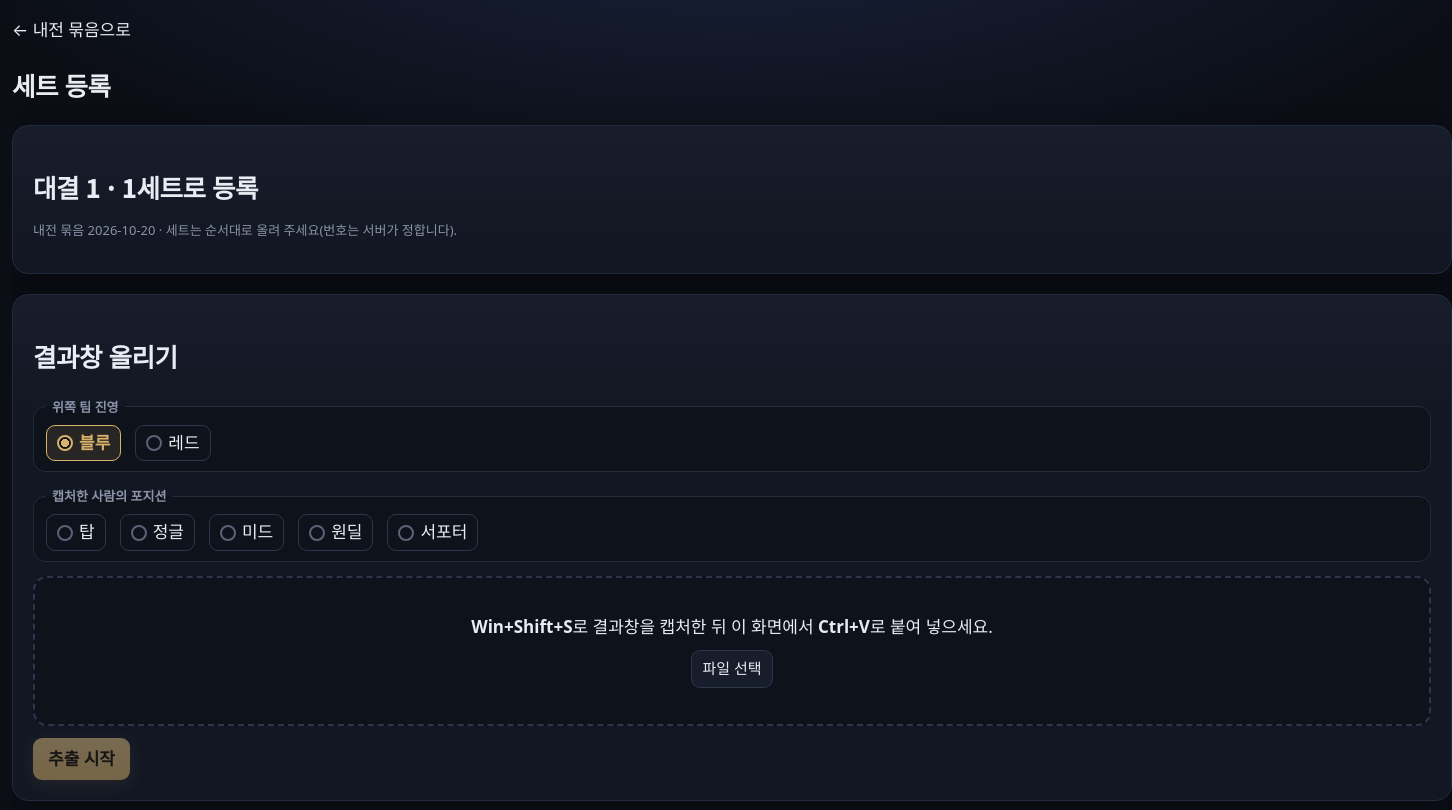
Test: SetRegisterPage › 오래 걸리면 폴링을 멈추고 "상태 다시 확인"과 "다시 추출"을 구분해서 보여 준다
The width and height of the screenshot is (1452, 810).
Expected: the heading "대결 1 · 1세트로 등록" is shown, [33,168,258,205]
Click the radio button labelled "원딜": (317, 533) [309,525,325,541]
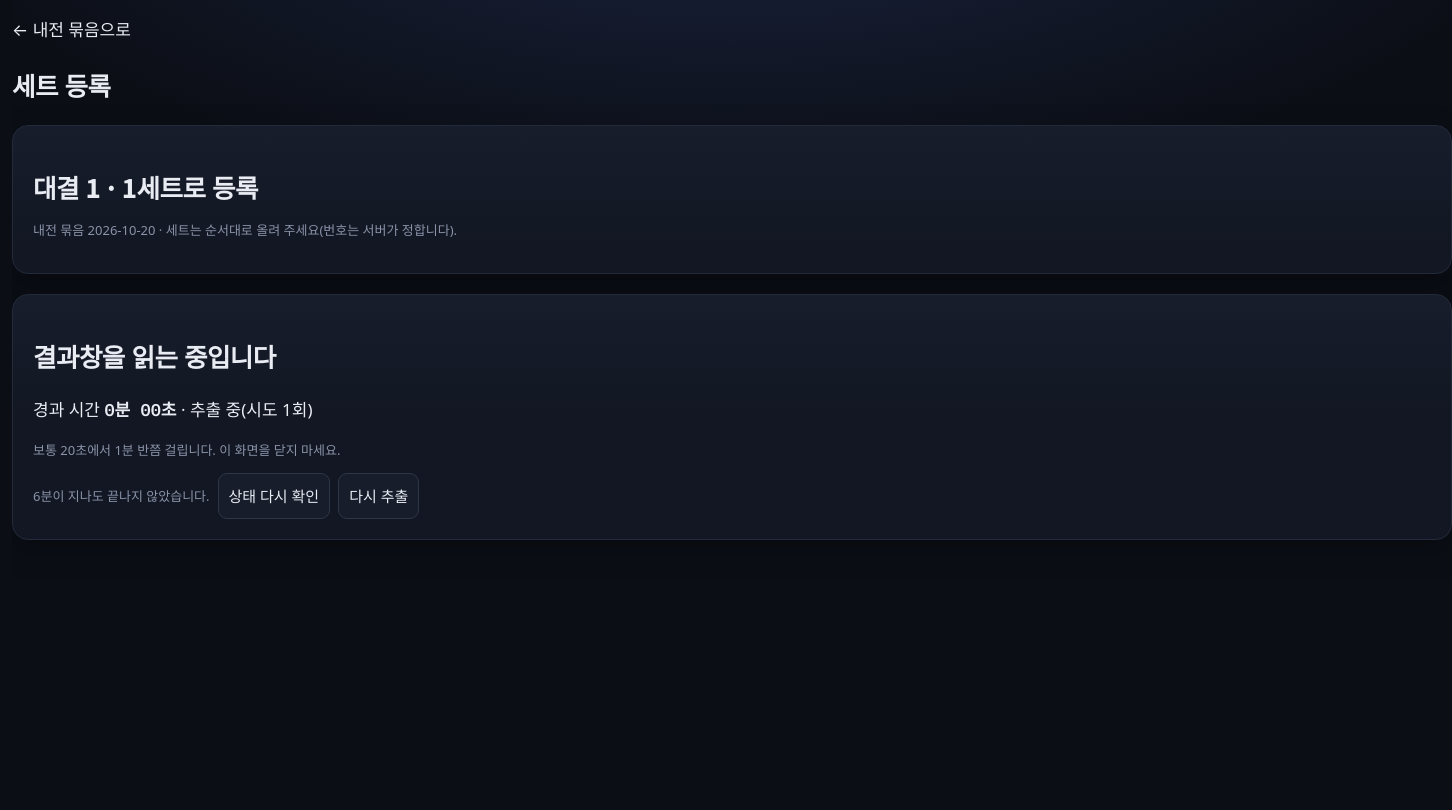
Result: the button "상태 다시 확인" is shown at [218,473,330,519]
Result: the button "다시 추출" is shown at [338,473,419,519]
